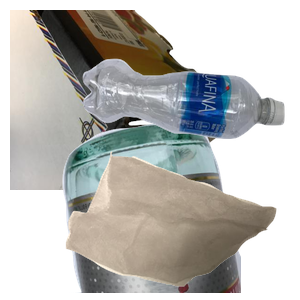cardboard: (10, 10, 238, 190)
glass: (60, 120, 300, 300)
plastic: (80, 56, 300, 187)
trash: (63, 149, 300, 300)
